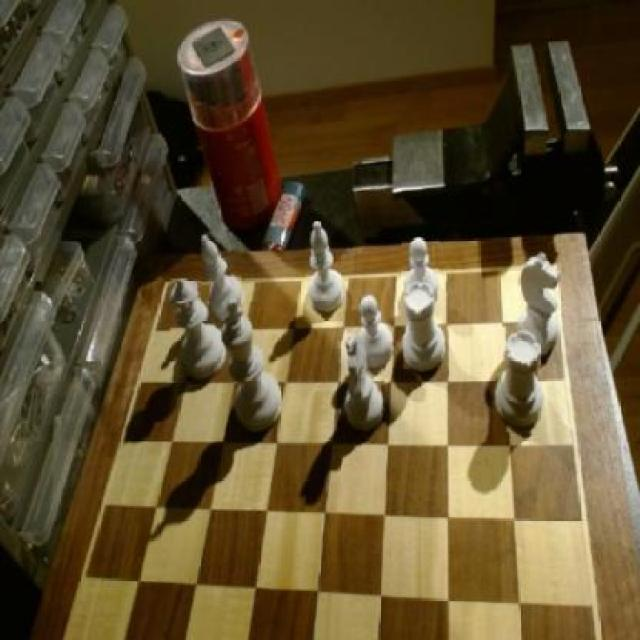black-rook: (197, 229, 241, 319), (306, 222, 347, 316)
white-bishop: (222, 302, 286, 440)
white-king: (520, 252, 562, 362), (338, 337, 386, 433)
white-knight: (360, 294, 394, 370), (402, 238, 439, 306)
white-pawn: (170, 280, 232, 383)
white-queen: (494, 328, 547, 434), (397, 283, 448, 379)
